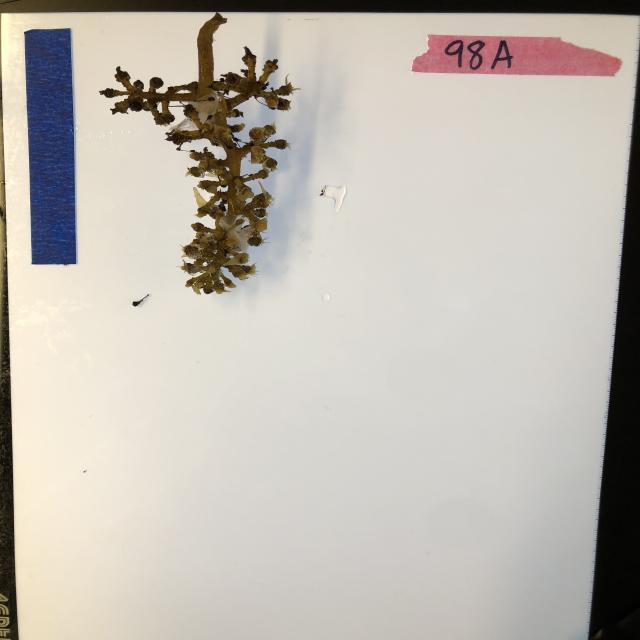index: (412, 33, 622, 78)
measure_label: (22, 27, 80, 266)
rachis_cluster: (98, 11, 304, 298)
